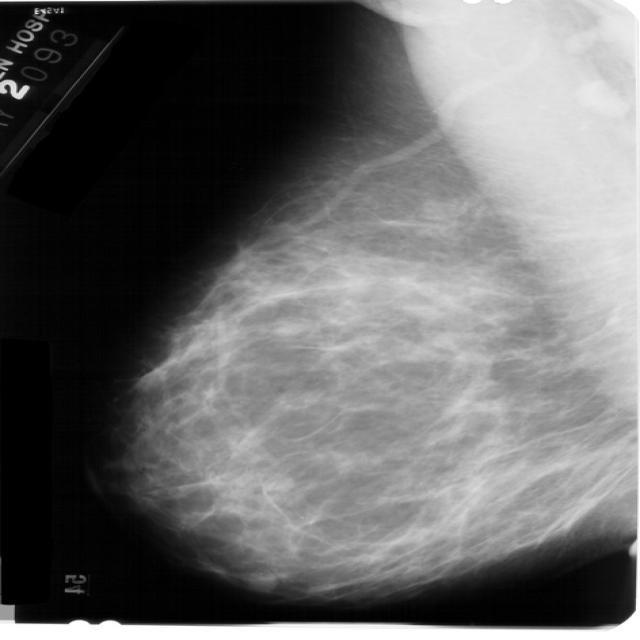tumour: (244, 568, 277, 592)
